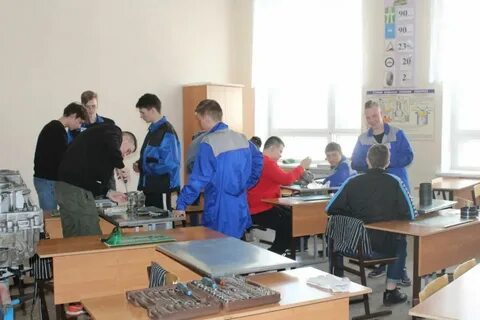students: (324, 142, 418, 308), (176, 98, 264, 239), (58, 124, 137, 237), (246, 136, 311, 255), (349, 100, 415, 194), (32, 104, 89, 212), (134, 92, 181, 207), (76, 90, 116, 128), (322, 141, 354, 188)
